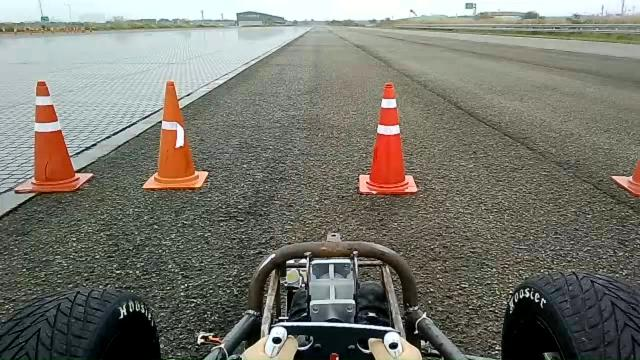red cone: (14, 79, 94, 194), (142, 79, 208, 191), (358, 82, 417, 195)
